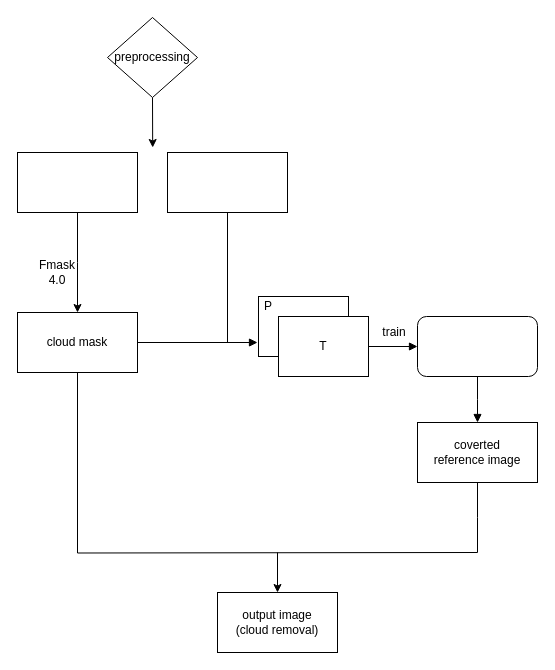
This 555x670 diagram has some shape labels left out. Here are the shapes that lost their labels. From the top down, the centre of each, then its label:
At point 77,182: "input image".
At point 227,182: "reference image".
At point 477,346: "BPNet".
